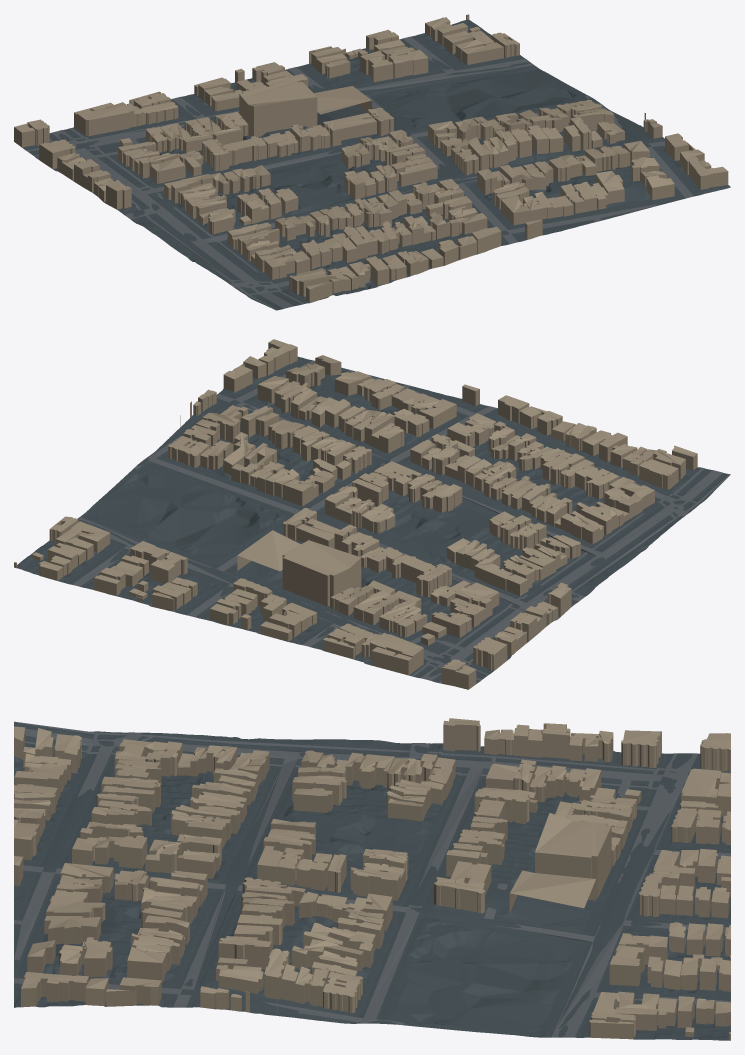
Rendered from epsg26910-1426-10891.lod0.glb.
The picture shows the model from 3 angles, top to bottom: view 1: azimuth 30°, elevation 25°; view 2: azimuth 150°, elevation 25°; view 3: azimuth 270°, elevation 25°; orthographic projection. The views are drawn at different scales.
Visible parts, largest first — view 1: epsg26910-1426-10891-lod0; view 2: epsg26910-1426-10891-lod0; view 3: epsg26910-1426-10891-lod0.
Boxes of the visible parts, x1=… form: epsg26910-1426-10891-lod0: x1=14, y1=14, x2=730, y2=310; epsg26910-1426-10891-lod0: x1=14, y1=339, x2=730, y2=689; epsg26910-1426-10891-lod0: x1=14, y1=718, x2=730, y2=1040.
Size of the model in its own units: 384 by 43.56 by 384.
